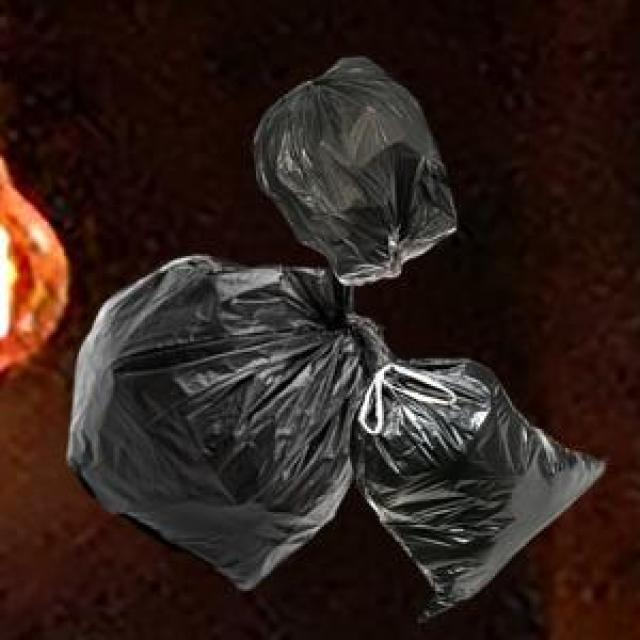Vinyl: (68, 58, 604, 614)
